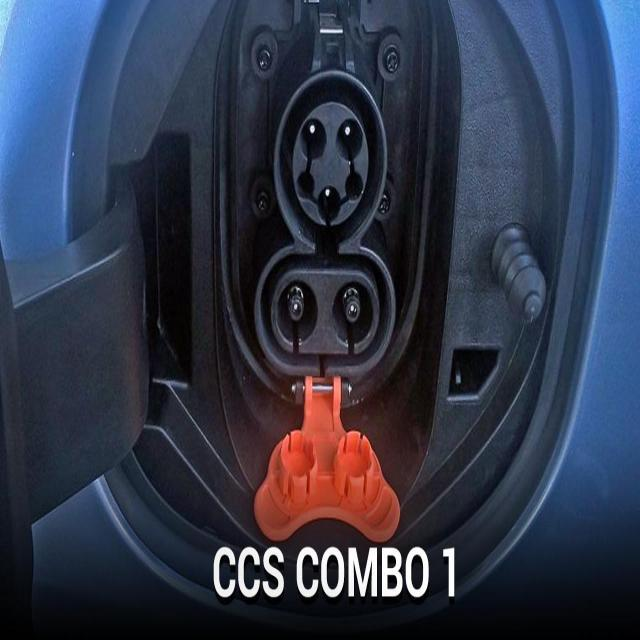CCS1: (226, 52, 427, 390)
